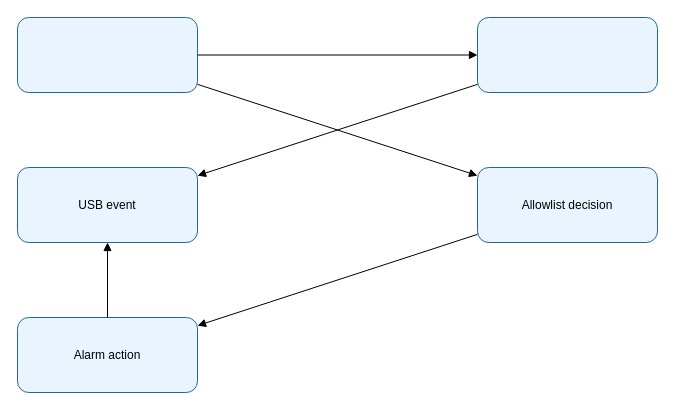
The diagram is 675 pixels wide and 410 high, and some of its shapes have lost their labels. Each missing label, with the box of its shape:
Persistent Agent: (476, 16, 658, 92)
Windows USB: (16, 16, 198, 92)
